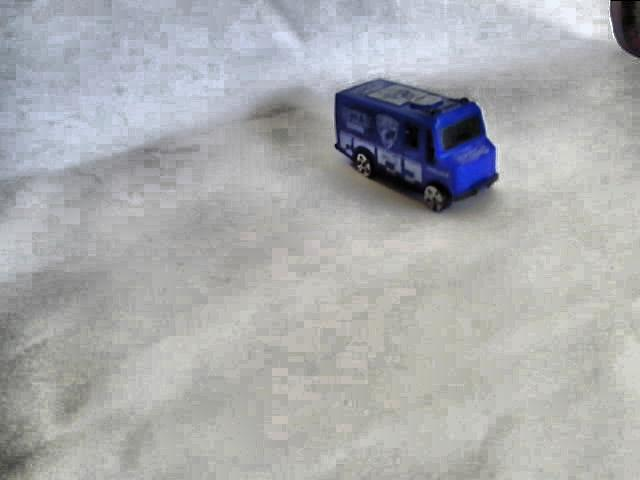police car: (334, 78, 501, 208)
